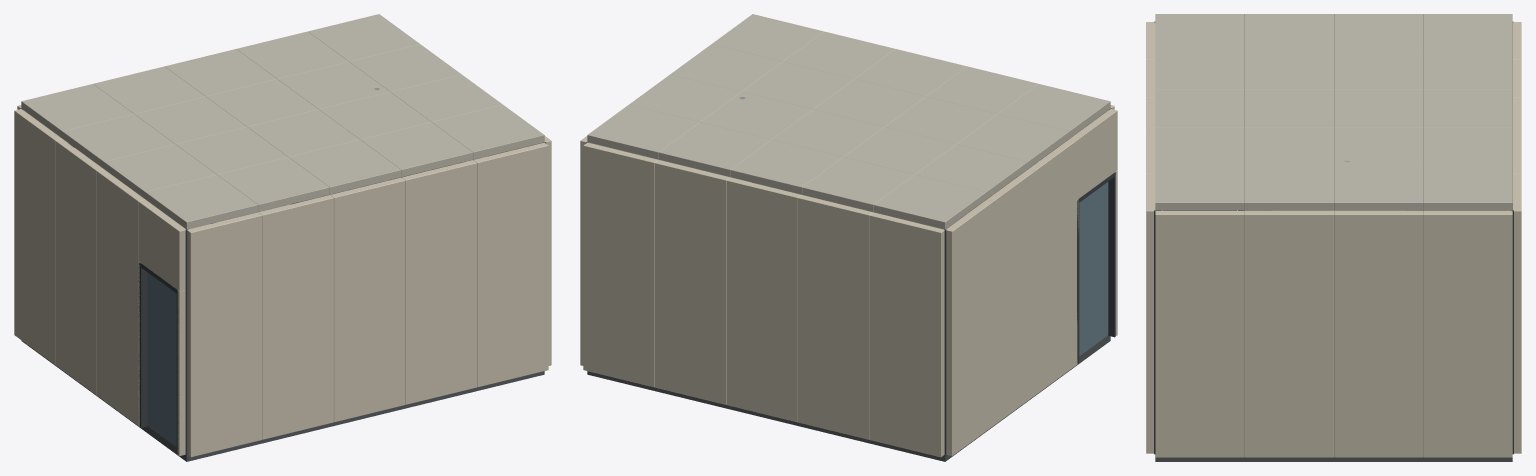
Rendered from MaintenanceRoom_Assembled.fbx.
The picture shows the model from 3 angles, left to right: view 1: azimuth 30°, elevation 25°; view 2: azimuth 150°, elevation 25°; view 3: azimuth 270°, elevation 25°; orthographic projection. The views are drawn at different scales.
Visible parts, largest first — view 1: MR_WallPanel_Body.010, MR_WallPanel_Body.002, MR_WallPanel_Body.008, MR_WallPanel_Body.006, MR_WallPanel_Body.004, MR_WallPanel_Body.014, MR_WallPanel_Body.012, MR_WallPanel_Body.016, MR_Doorway_Body.001, MR_Door_DoorHinge.001, MR_CeilingTile_Body.001, MR_CeilingTile_Body.009 (+22 smaller); view 2: MR_WallPanel_Body.001, MR_WallPanel_Body.005, MR_WallPanel_Body.003, MR_WallPanel_Body.009, MR_WallPanel_Body.007, MR_WallPanel_Body.016, MR_WallPanel_Body.012, MR_WallPanel_Body.014, MR_Door_DoorHinge.001, MR_CeilingTile_Body.004, MR_Doorway_Body.001, MR_CeilingTile_Body.012 (+21 smaller); view 3: MR_WallPanel_Body.011, MR_WallPanel_Body.017, MR_WallPanel_Body.013, MR_WallPanel_Body.015, MR_CeilingTile_Body.017, MR_CeilingTile_Body.018, MR_CeilingTile_Body.019, MR_CeilingTile_Body.020, MR_CeilingTile_Body.009, MR_CeilingTile_Body.012, MR_CeilingTile_Body.005, MR_CeilingTile_Body.006 (+24 smaller).
Boxes of the visible parts, left/top/right/bottom form: MR_WallPanel_Body.010: left=187, top=212, right=262, bottom=457; MR_WallPanel_Body.002: left=473, top=142, right=548, bottom=387; MR_WallPanel_Body.008: left=258, top=195, right=333, bottom=439; MR_WallPanel_Body.006: left=330, top=177, right=405, bottom=422; MR_WallPanel_Body.004: left=401, top=160, right=476, bottom=404; MR_WallPanel_Body.014: left=55, top=139, right=103, bottom=395; MR_WallPanel_Body.012: left=97, top=169, right=144, bottom=425; MR_WallPanel_Body.016: left=14, top=109, right=61, bottom=364; MR_Doorway_Body.001: left=138, top=199, right=185, bottom=455; MR_Door_DoorHinge.001: left=147, top=272, right=176, bottom=446; MR_CeilingTile_Body.001: left=145, top=174, right=257, bottom=229; MR_CeilingTile_Body.009: left=289, top=140, right=401, bottom=194; MR_WallPanel_Body.001: left=869, top=212, right=944, bottom=457; MR_WallPanel_Body.005: left=726, top=177, right=801, bottom=422; MR_WallPanel_Body.003: left=798, top=195, right=873, bottom=439; MR_WallPanel_Body.009: left=583, top=142, right=658, bottom=387; MR_WallPanel_Body.007: left=655, top=160, right=729, bottom=404; MR_WallPanel_Body.016: left=946, top=200, right=993, bottom=455; MR_WallPanel_Body.012: left=1028, top=139, right=1076, bottom=395; MR_WallPanel_Body.014: left=987, top=169, right=1034, bottom=425; MR_Door_DoorHinge.001: left=1079, top=182, right=1108, bottom=355; MR_CeilingTile_Body.004: left=873, top=174, right=986, bottom=229; MR_Doorway_Body.001: left=1069, top=109, right=1117, bottom=364; MR_CeilingTile_Body.012: left=730, top=140, right=842, bottom=194; MR_WallPanel_Body.011: left=1423, top=211, right=1512, bottom=457; MR_WallPanel_Body.017: left=1155, top=211, right=1244, bottom=457; MR_WallPanel_Body.013: left=1334, top=211, right=1423, bottom=457; MR_WallPanel_Body.015: left=1244, top=211, right=1333, bottom=457; MR_CeilingTile_Body.017: left=1155, top=165, right=1244, bottom=210; MR_CeilingTile_Body.018: left=1244, top=165, right=1333, bottom=210; MR_CeilingTile_Body.019: left=1334, top=165, right=1423, bottom=210; MR_CeilingTile_Body.020: left=1423, top=165, right=1512, bottom=210; MR_CeilingTile_Body.009: left=1155, top=89, right=1244, bottom=127; MR_CeilingTile_Body.012: left=1423, top=89, right=1512, bottom=127; MR_CeilingTile_Body.005: left=1155, top=51, right=1244, bottom=89; MR_CeilingTile_Body.006: left=1244, top=51, right=1333, bottom=89.
Size of the model in its own units: 5.2 by 3.2 by 4.2.
